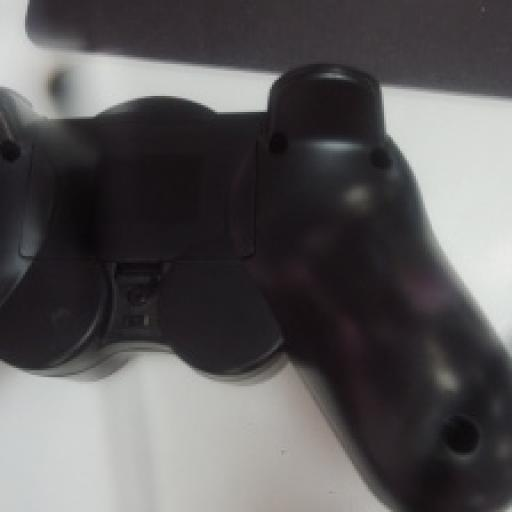game pad: (2, 64, 510, 505)
